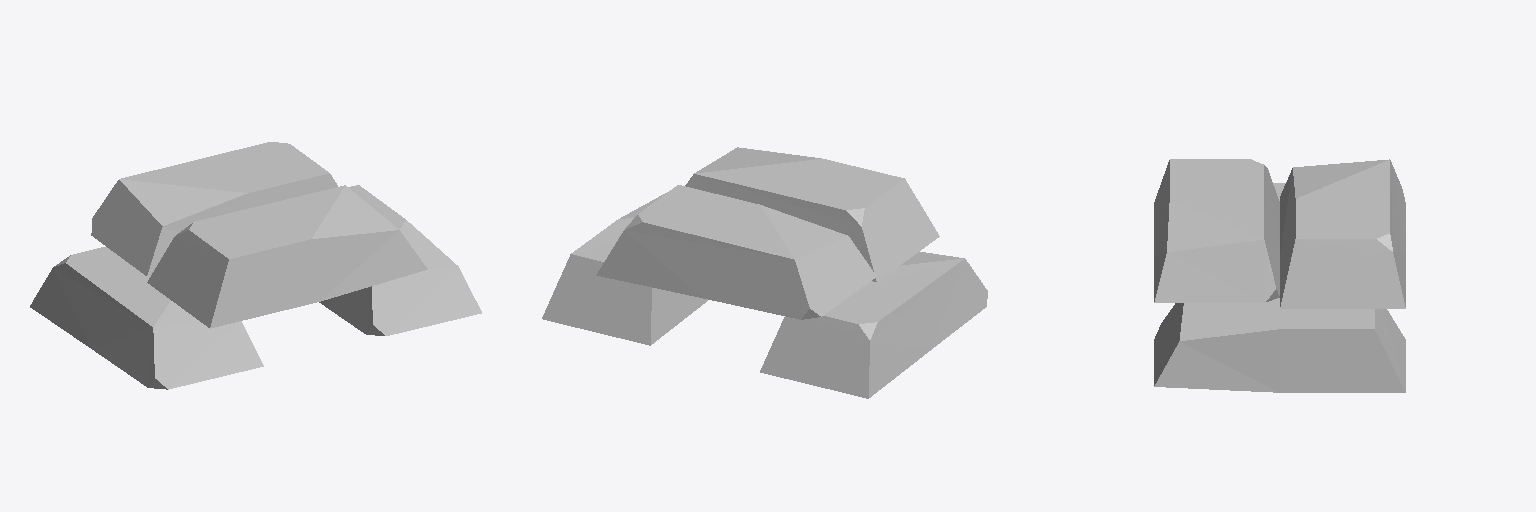
Rendered from Gold-10.obj.
3 renders of one model, left to right at view 1: azimuth 30°, elevation 25°; view 2: azimuth 150°, elevation 25°; view 3: azimuth 270°, elevation 25°, orthographic.
Parts seen in each view (by area): view 1: Gold_10; view 2: Gold_10; view 3: Gold_10.
Boxes of the visible parts, box(x1,y1,x2,y2) form: Gold_10: box(30, 142, 481, 389); Gold_10: box(542, 147, 987, 398); Gold_10: box(1154, 159, 1405, 392).
Size of the model in its own units: 0.225 by 0.075 by 0.15.